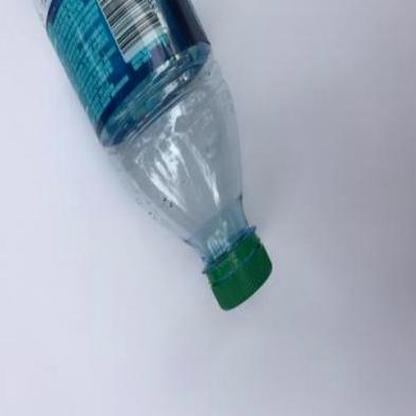plastic bottle: (27, 1, 273, 311)
